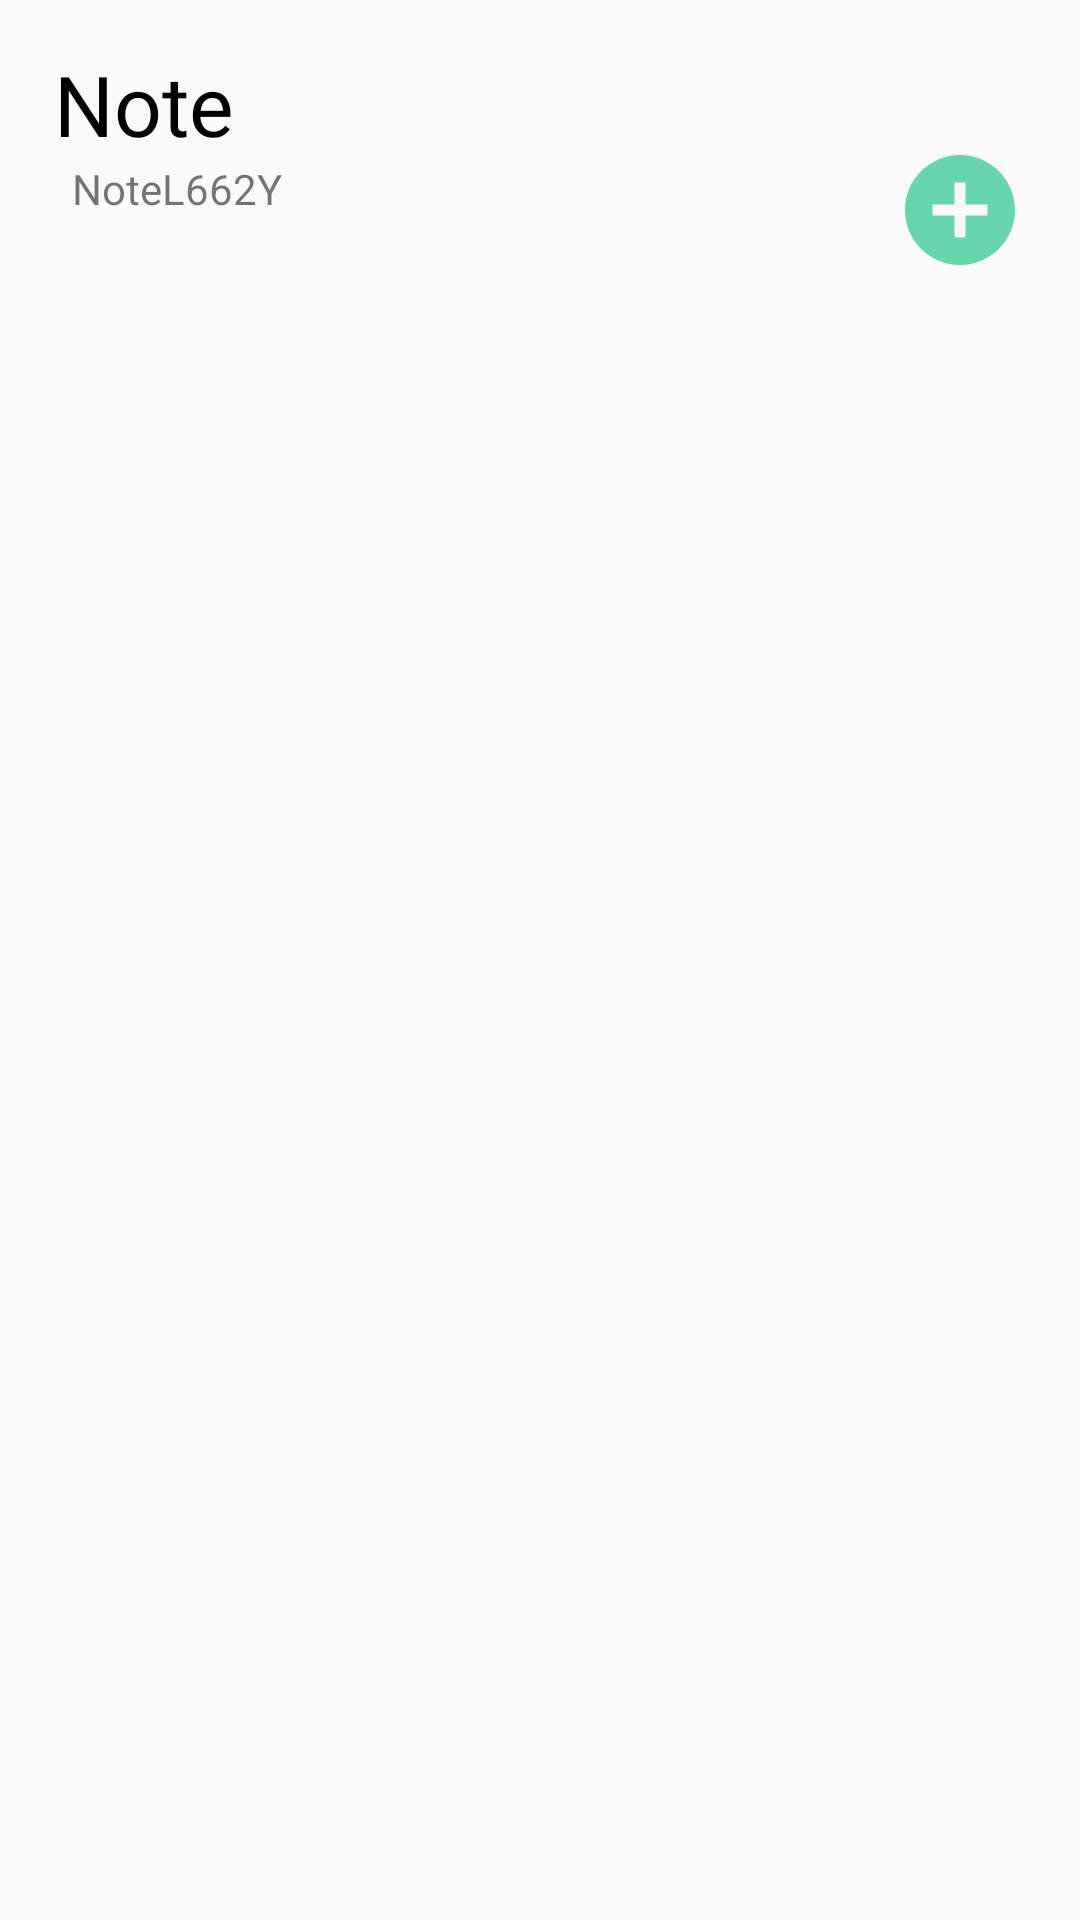

Where icons sit on this 1080x1920 app screen, as (x1, y1, x2, y2):
add circle: (905, 155, 1015, 265)
